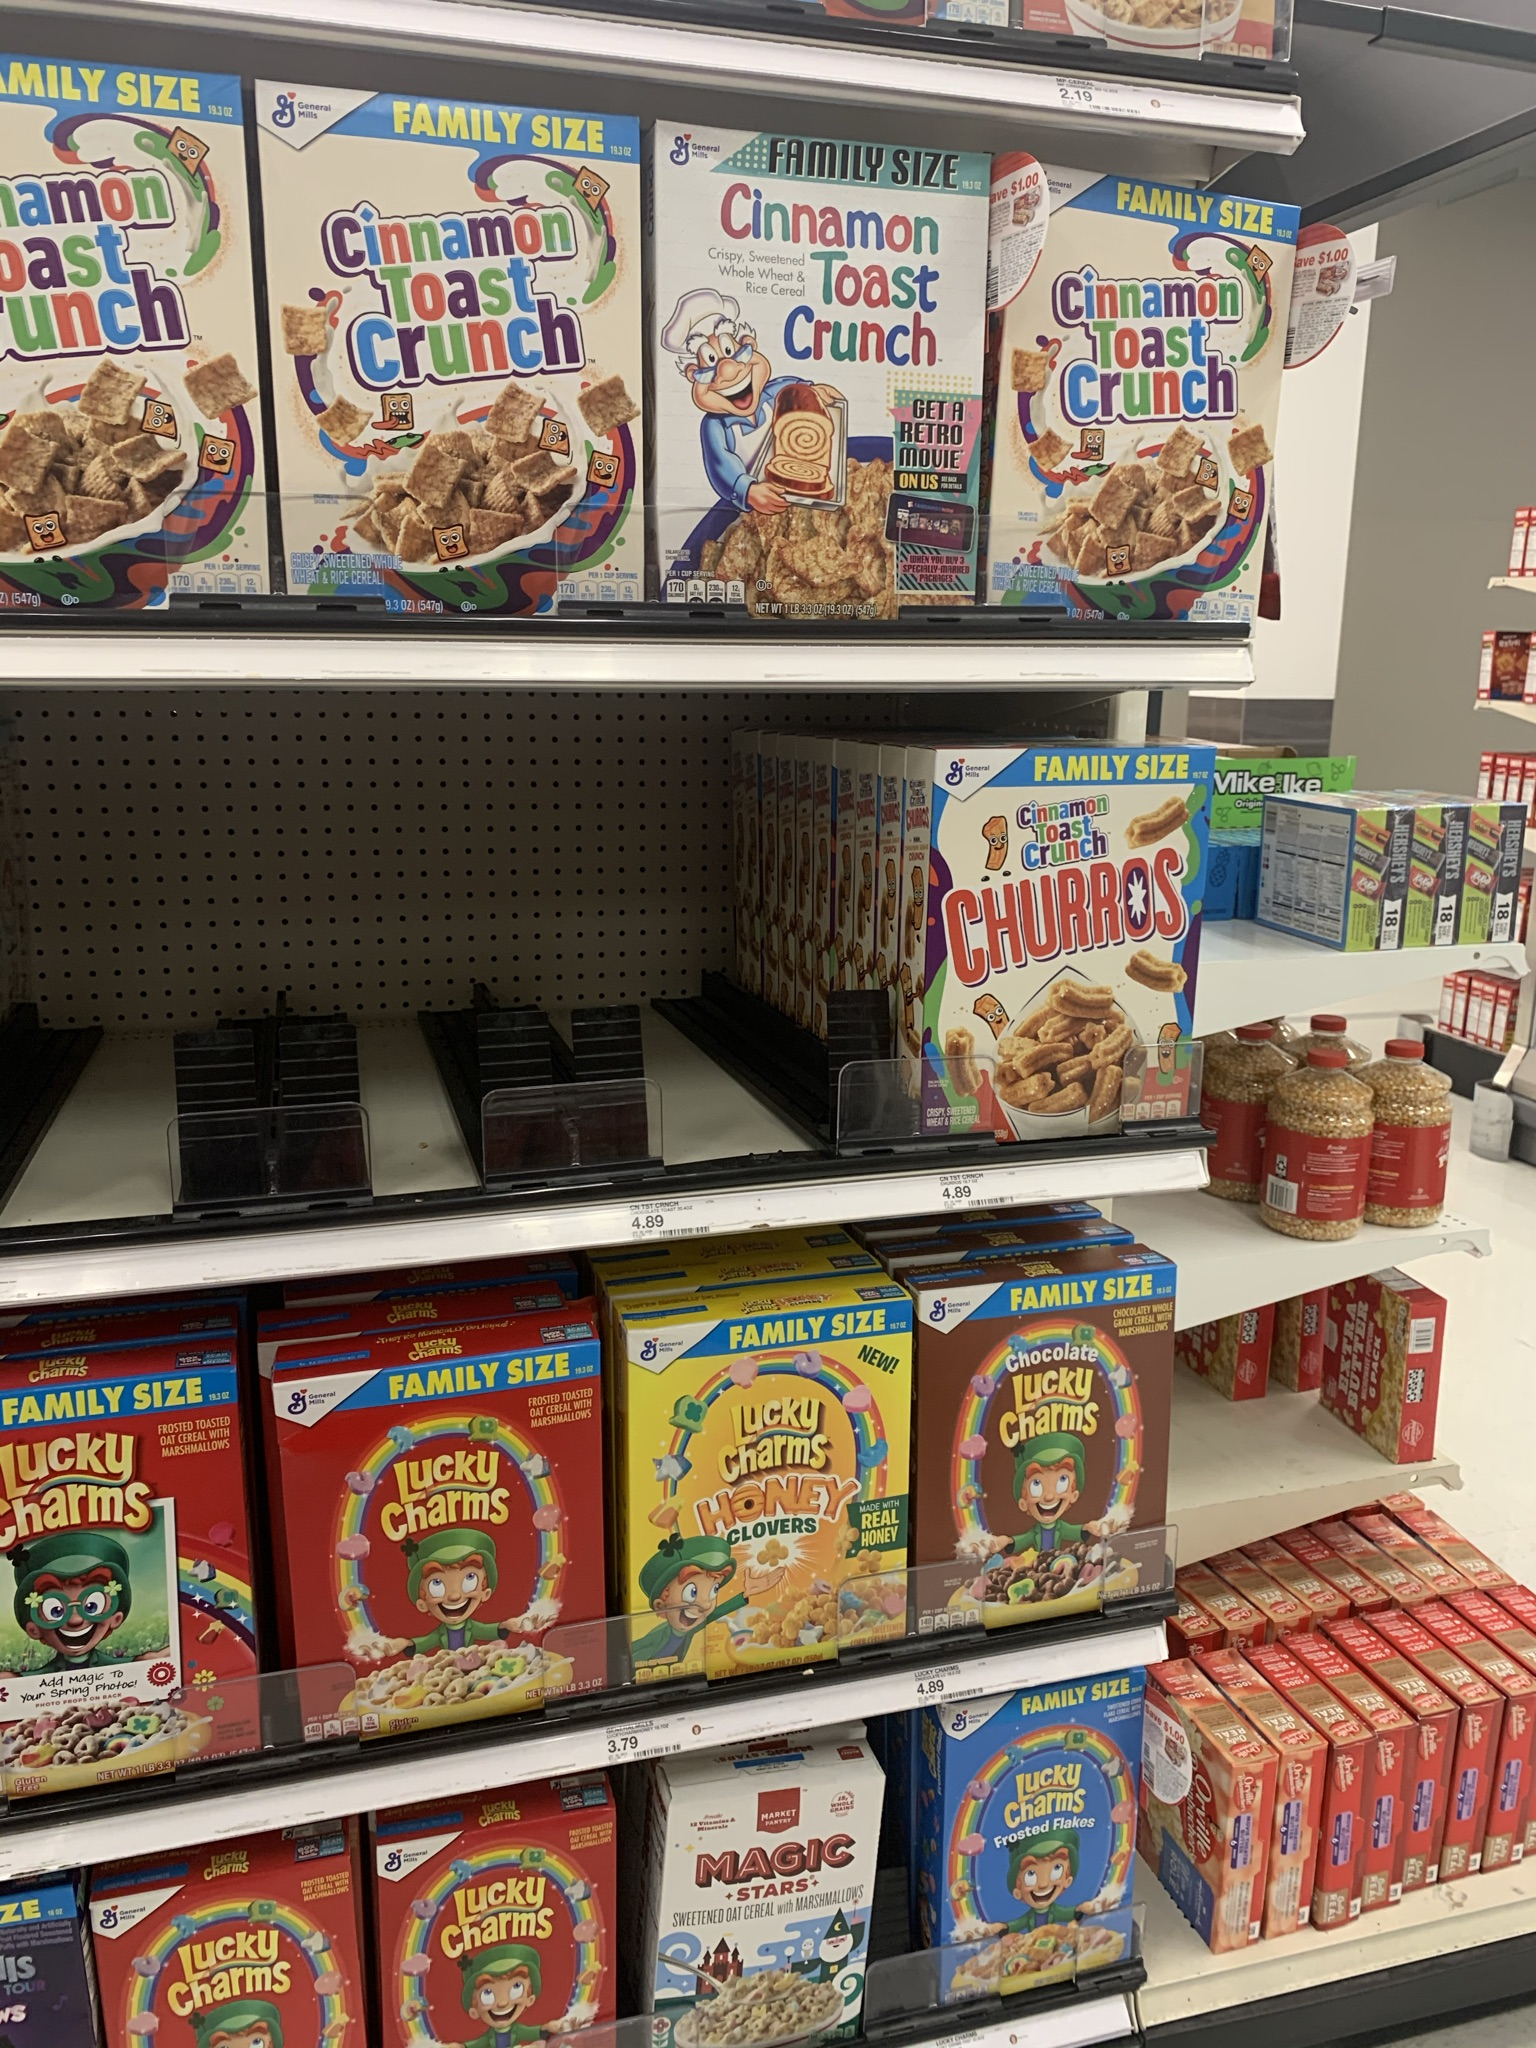Cereal churros: (957, 769, 1192, 1126)
Cereal cinnamon toast crunch: (274, 89, 644, 598), (679, 135, 984, 629), (6, 69, 265, 598), (1002, 161, 1271, 631)
Cereal lucky charm: (2, 1385, 292, 1774), (303, 1397, 615, 1705), (634, 1338, 912, 1624), (949, 1305, 1192, 1605), (978, 1724, 1157, 2000), (392, 1850, 624, 2048), (110, 1904, 366, 2038)
Cereal magic: (674, 1792, 874, 2048)
